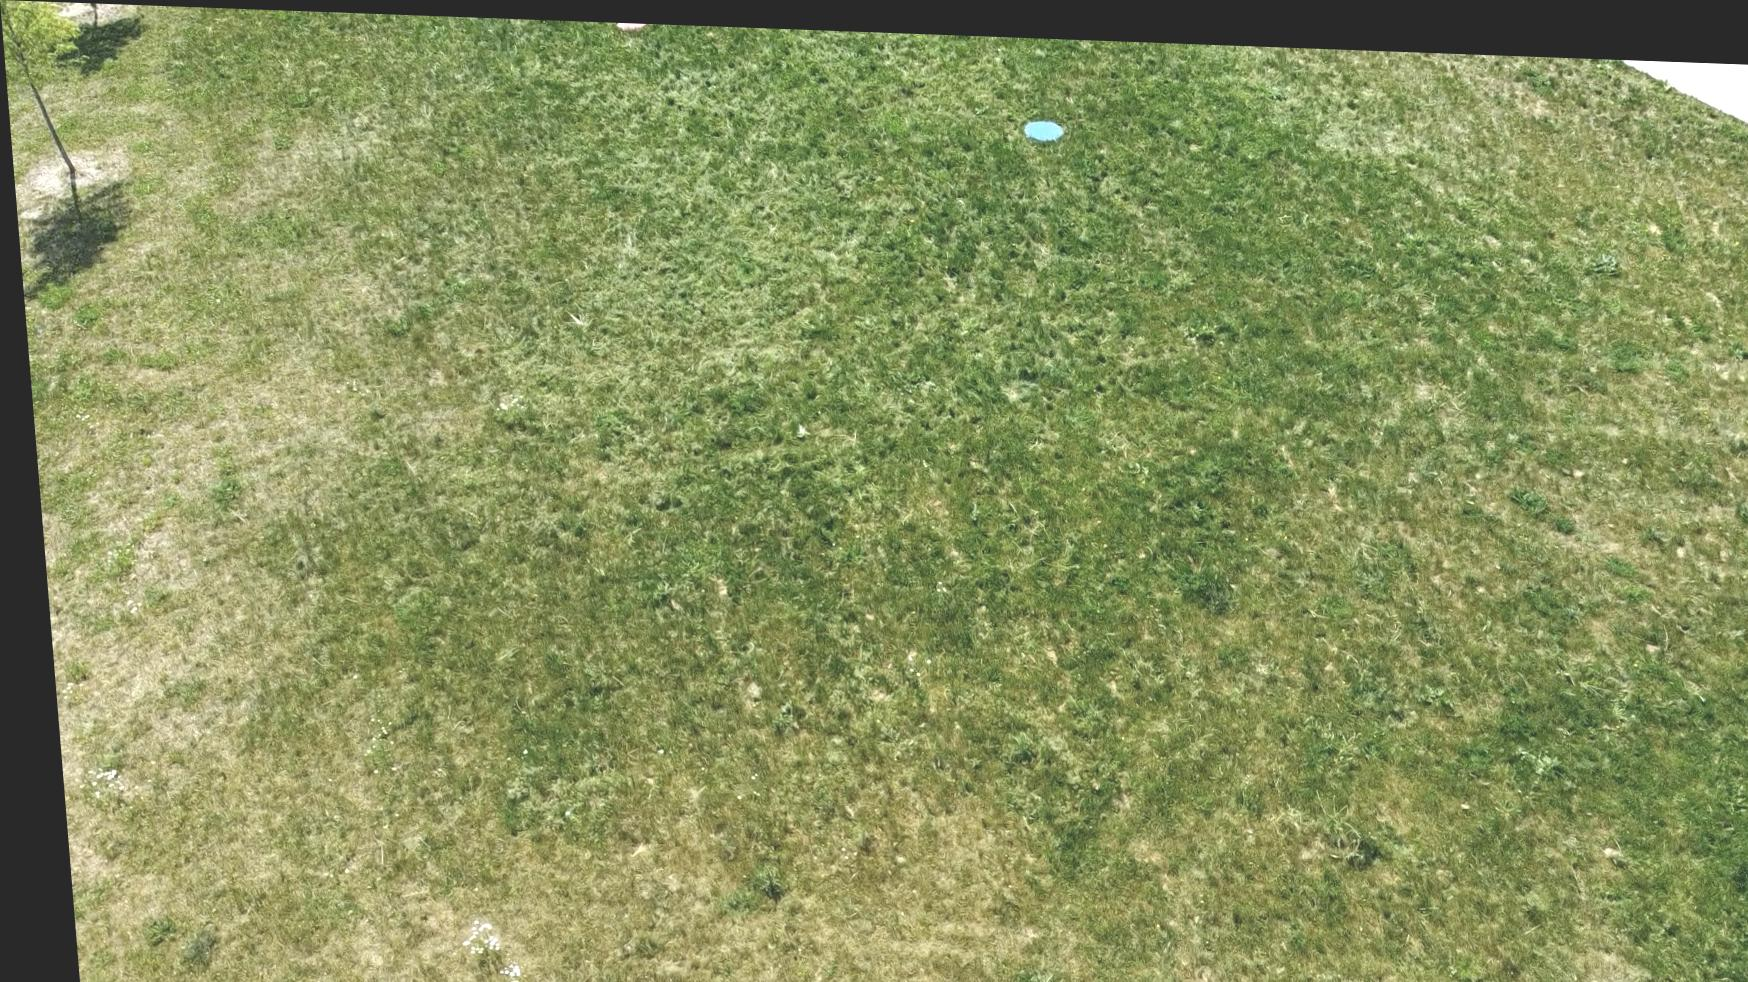Blue: (1020, 108, 1066, 137)
Red: (615, 18, 653, 28)
